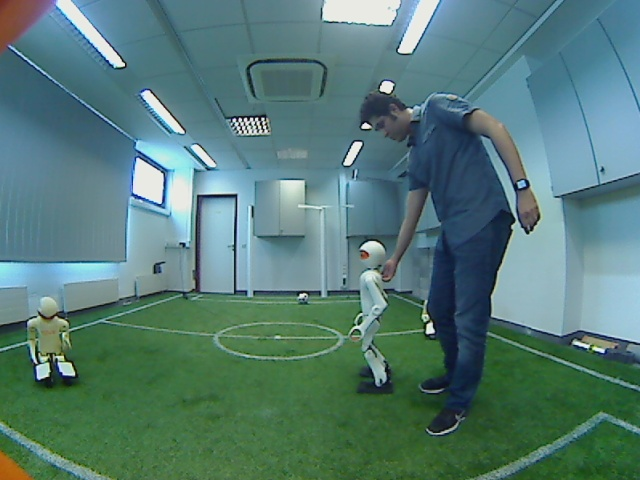ball: (293, 289, 315, 309)
robot: (344, 239, 400, 397), (19, 290, 80, 386), (417, 281, 438, 345)
